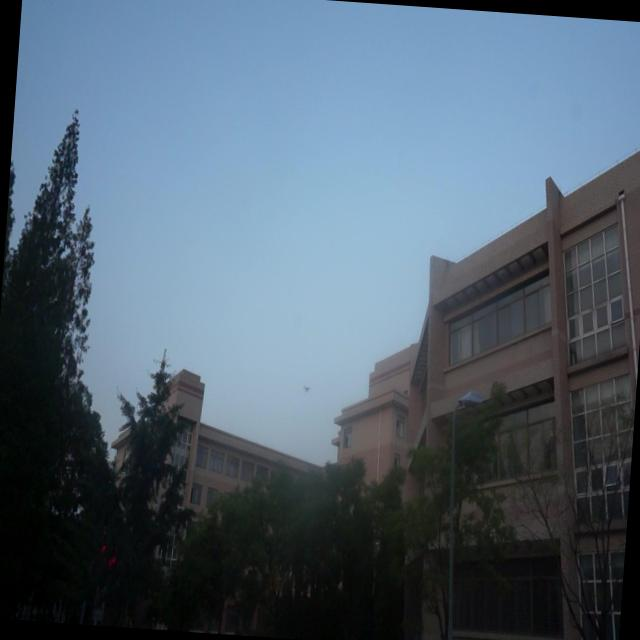drone: (302, 382, 310, 396)
